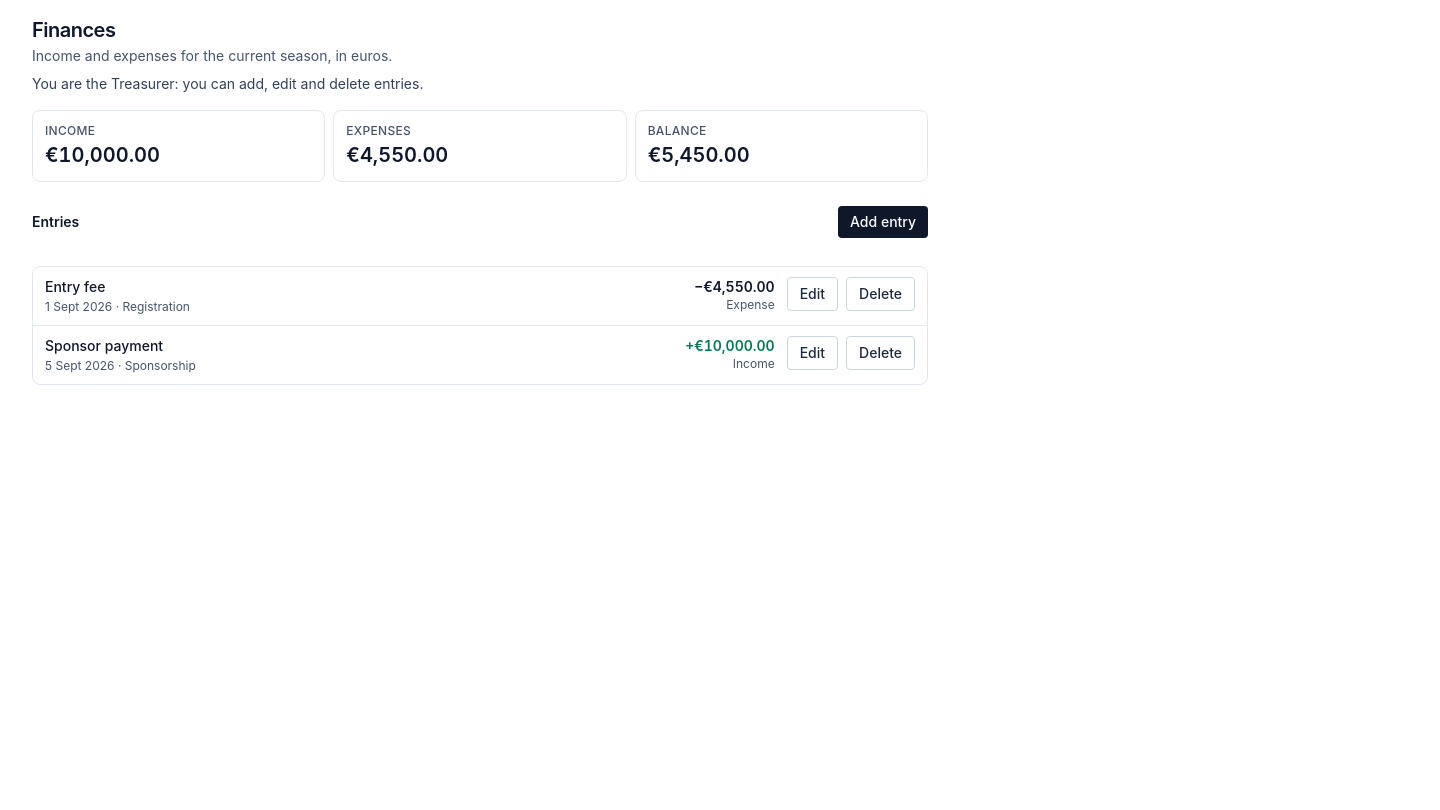
it: the Treasurer › edits and deletes an entry, deleting only after confirming
Click the button with aria-label "Edit Entry fee".
click(812, 294)  # box [787, 277, 838, 311]
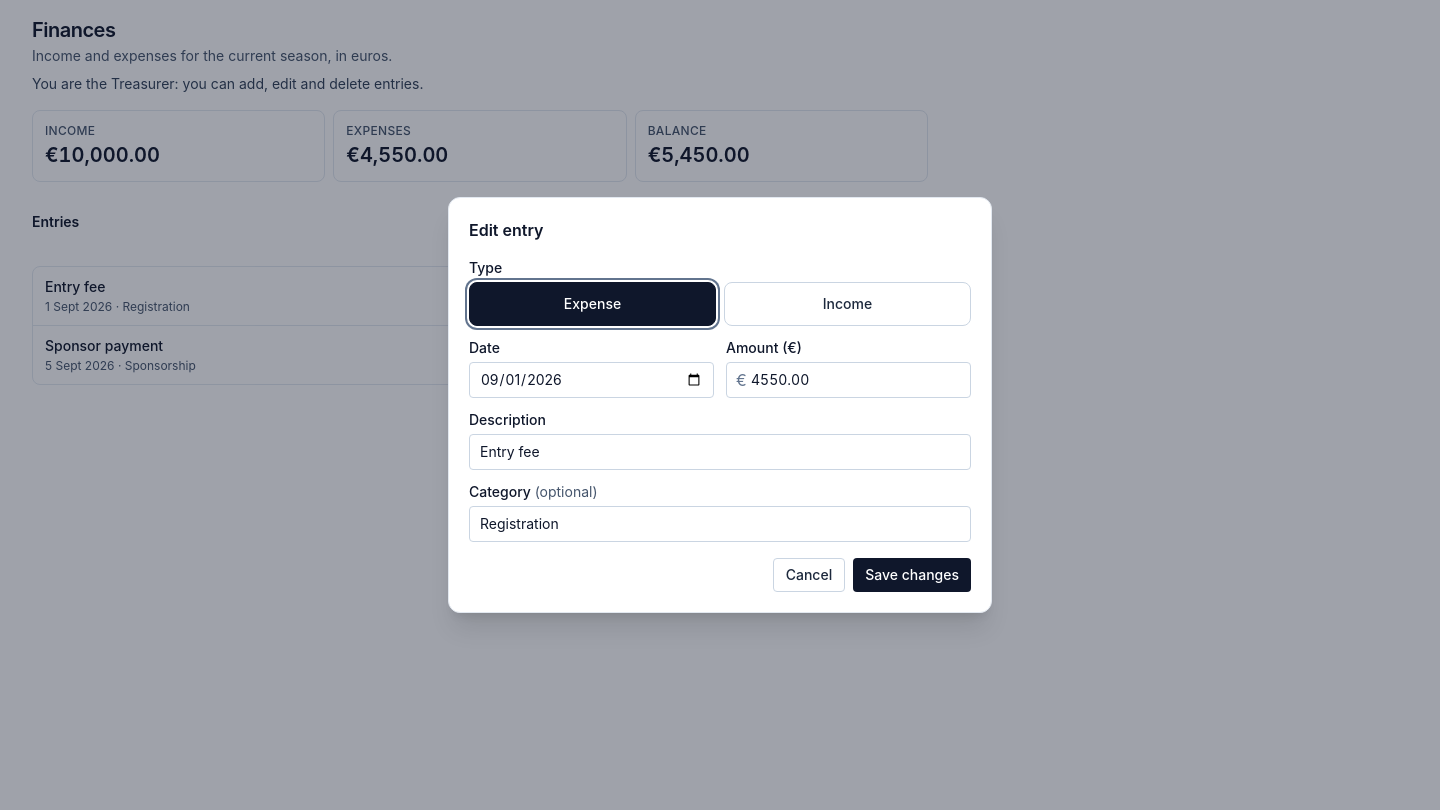
Check: the field labelled "Amount (€)" holds "4550.00"
Replace the text in the field labelled "Amount (€)" with "4600" at (848, 380), box [726, 362, 971, 398]
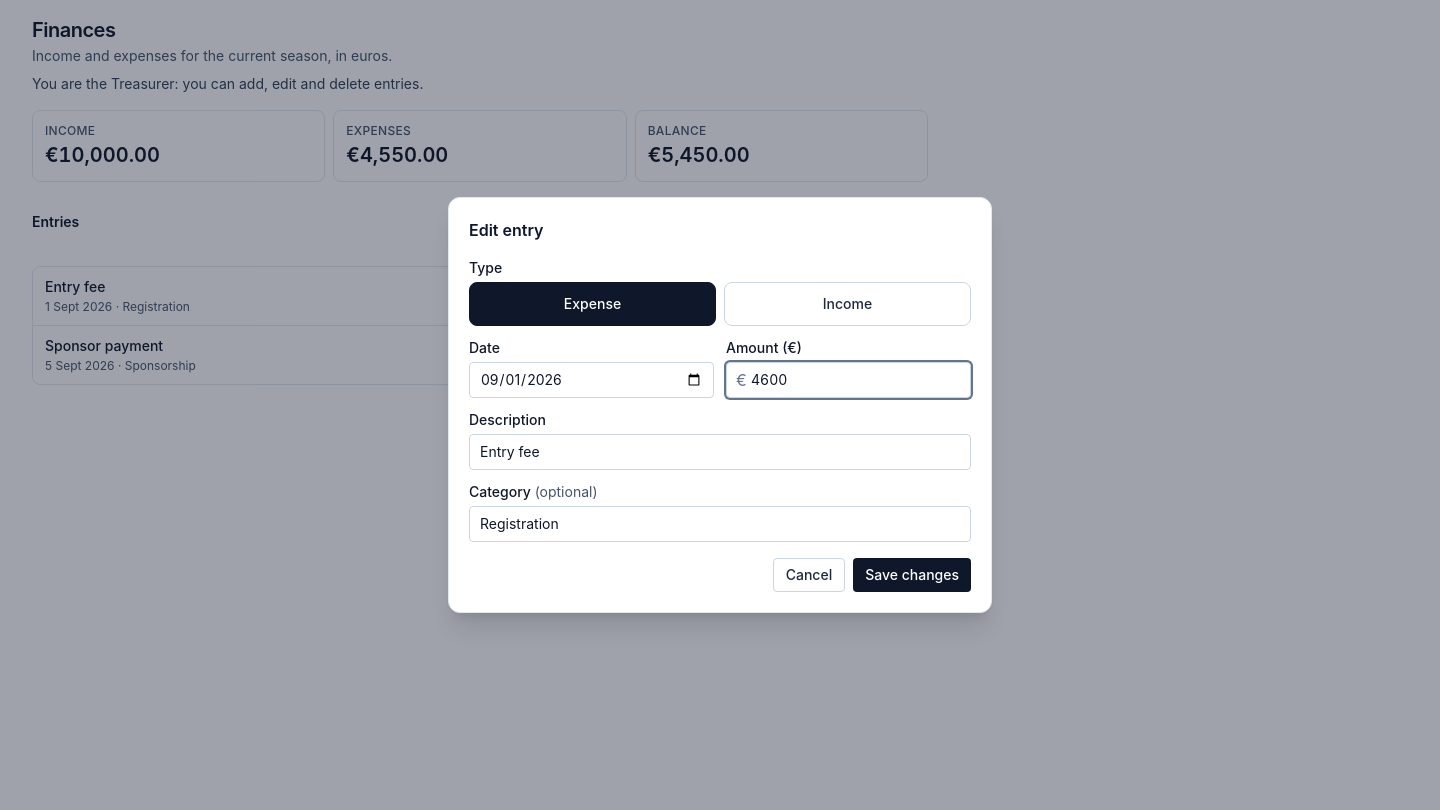
Click the button "Save changes".
click(912, 575)  # box [853, 558, 971, 592]
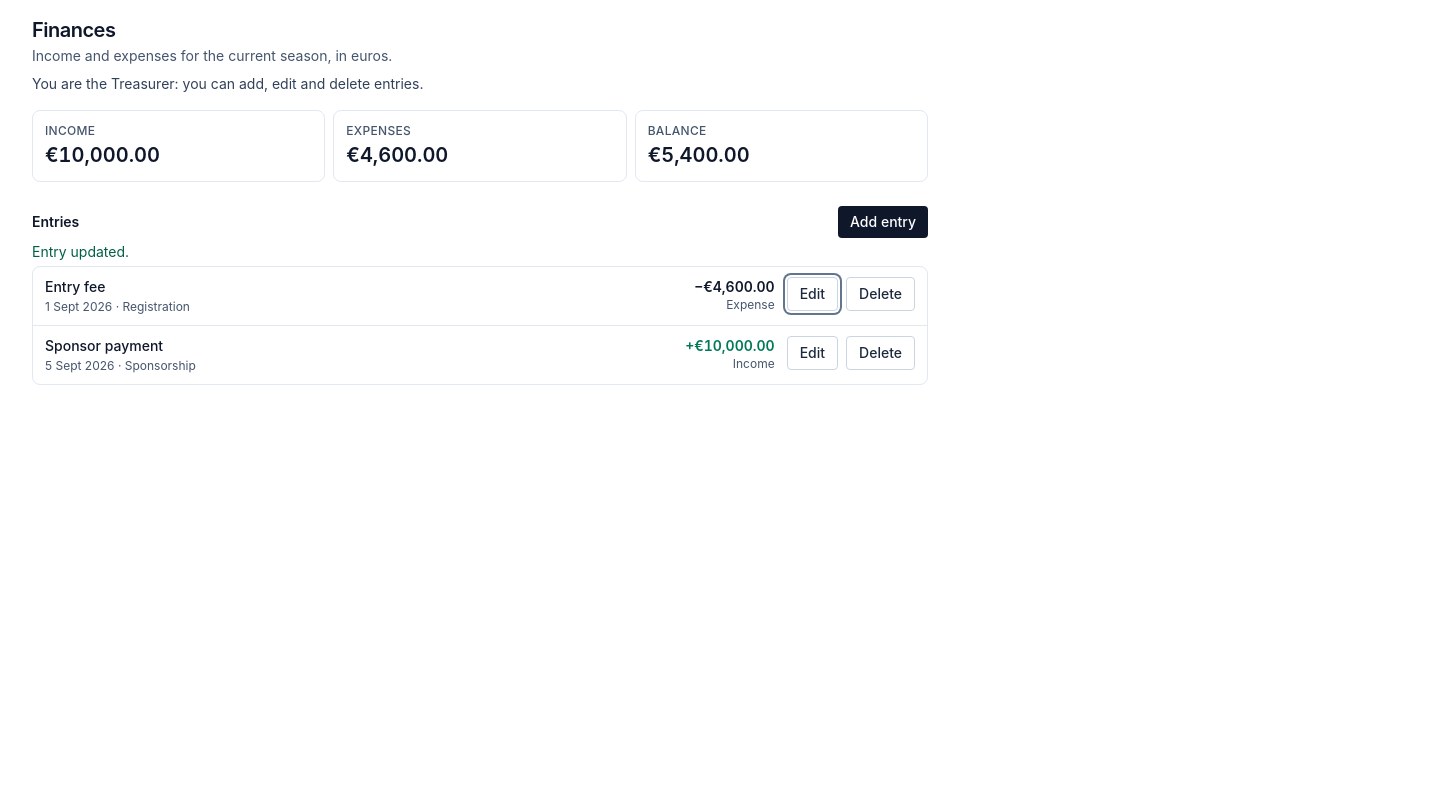
Check: the text "Entry updated." is shown, box [32, 243, 129, 260]
Click the button with aria-label "Delete Entry fee".
click(881, 294)  # box [846, 277, 915, 311]
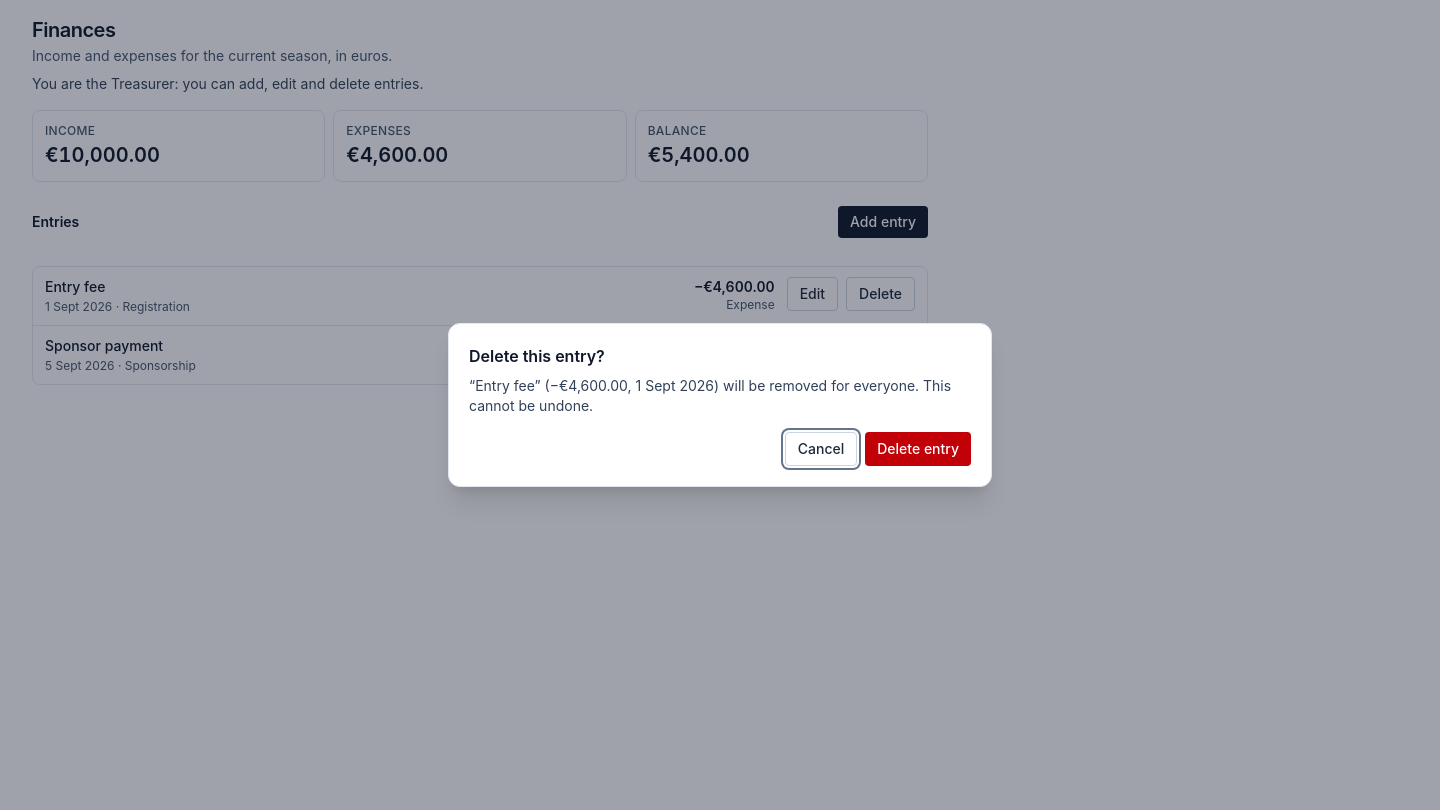
Click the button "Delete entry".
click(918, 449)  # box [865, 432, 971, 466]
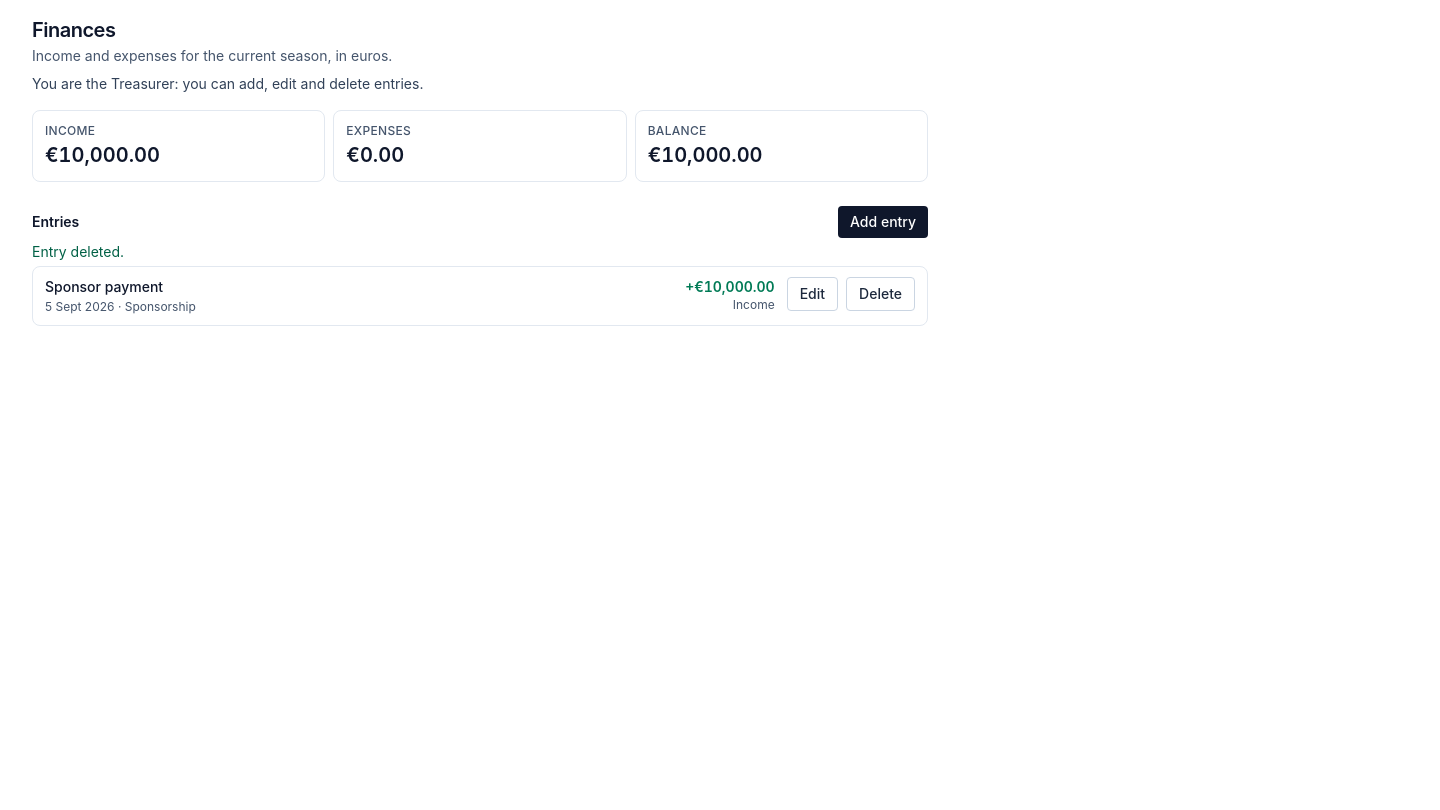
Check: the text "Entry deleted." is shown, box [32, 243, 124, 260]
